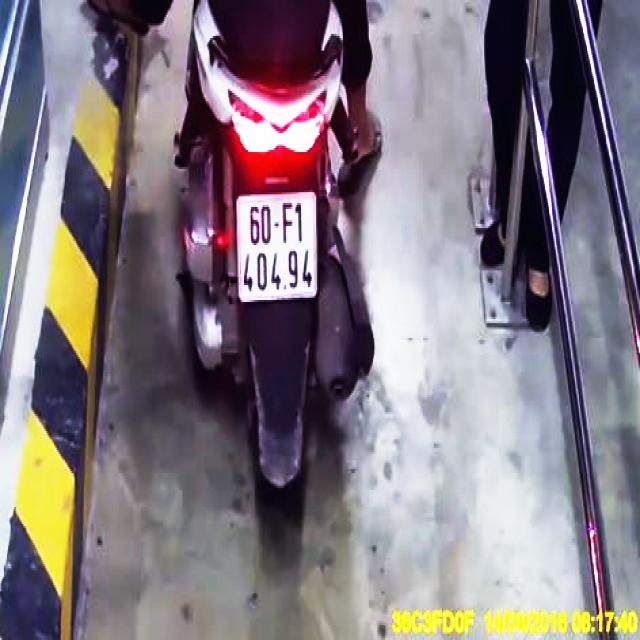license_plate: (237, 194, 319, 304)
